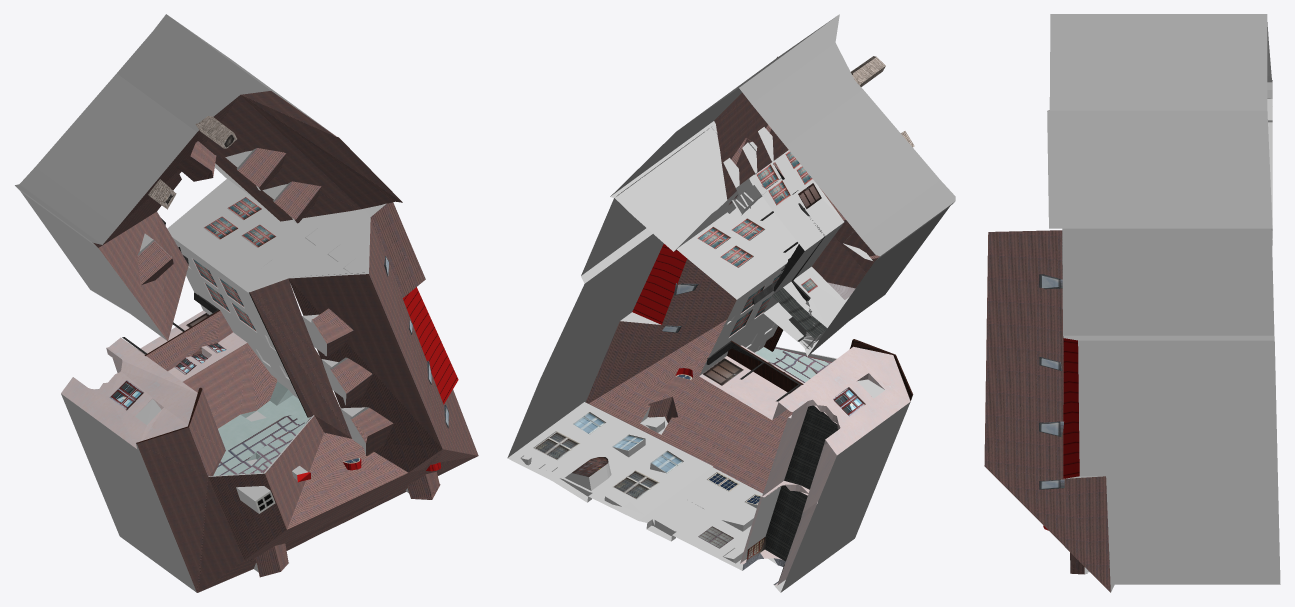
File: Pikk_7-origo.obj
3 views of the same model, side by side, from view 1: azimuth 30°, elevation 25°; view 2: azimuth 150°, elevation 25°; view 3: azimuth 270°, elevation 25° (orthographic). The views are drawn at different scales.
Visible parts, largest first — view 1: Pikk_7; view 2: Pikk_7; view 3: Pikk_7.
Part boxes in pixels (<box>): Pikk_7: <box>15,14,478,592</box>; Pikk_7: <box>507,14,955,592</box>; Pikk_7: <box>984,14,1280,592</box>.
Size of the model in its own units: 29.56 by 37.5 by 18.98.
